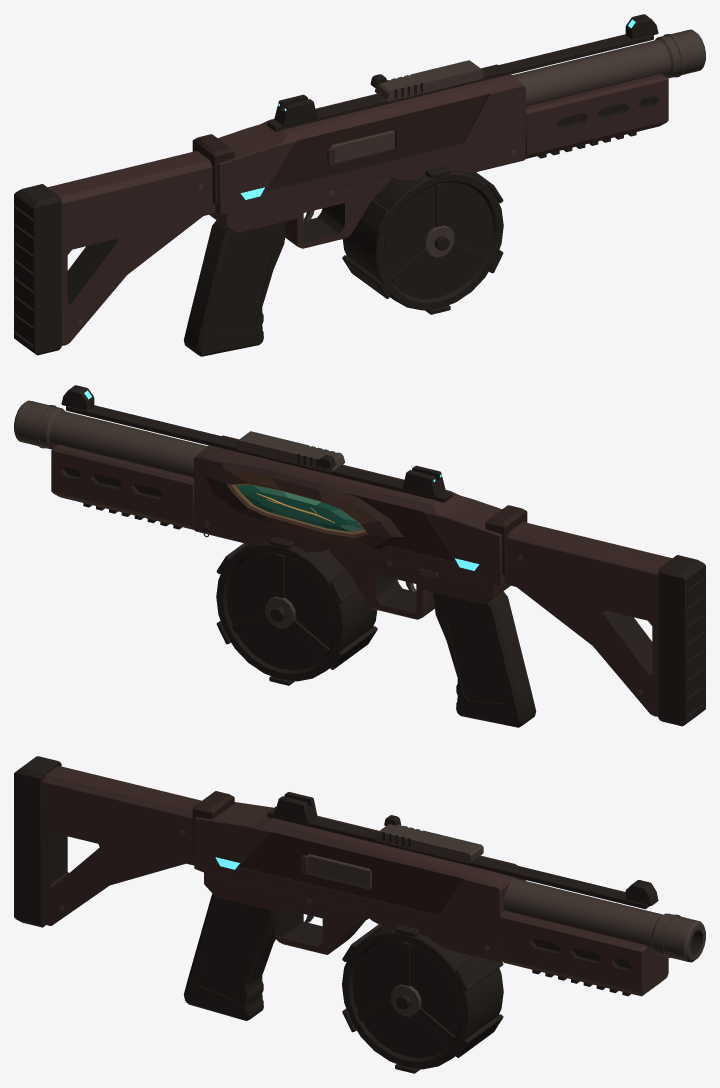
The model's file is Judge_Rootglass_v01.fbx.
3 renders of one model, top to bottom at view 1: azimuth 30°, elevation 25°; view 2: azimuth 150°, elevation 25°; view 3: azimuth 330°, elevation 25°, orthographic.
Parts seen in each view (by area): view 1: Judge_Receiver, Judge_Stock, Judge_Mag, Judge_Grip, Judge_Handguard, Judge_Barrel, Judge_ChargingHandle, Judge_Sights, Judge_Bolt; view 2: Judge_Receiver, Judge_Stock, Judge_Mag, Judge_Grip, Judge_Handguard, Judge_Barrel, Rootglass_Left_CarvedShell, Rootglass_Left_FacetedMineral, Judge_ChargingHandle, Judge_Sights, Rootglass_Left_BronzeSeat; view 3: Judge_Receiver, Judge_Stock, Judge_Mag, Judge_Handguard, Judge_Grip, Judge_Barrel, Judge_ChargingHandle, Judge_Sights, Judge_Bolt.
Boxes of the visible parts, bbox=[...] form: Judge_Receiver: bbox=[192, 34, 653, 248]; Judge_Stock: bbox=[14, 151, 215, 355]; Judge_Mag: bbox=[342, 166, 503, 314]; Judge_Grip: bbox=[183, 220, 287, 356]; Judge_Handguard: bbox=[525, 73, 668, 158]; Judge_Barrel: bbox=[512, 29, 705, 106]; Judge_ChargingHandle: bbox=[370, 60, 483, 101]; Judge_Sights: bbox=[274, 14, 658, 126]; Judge_Bolt: bbox=[330, 130, 394, 163]; Judge_Receiver: bbox=[66, 405, 527, 619]; Judge_Stock: bbox=[504, 522, 705, 726]; Judge_Mag: bbox=[216, 537, 377, 685]; Judge_Grip: bbox=[432, 591, 536, 727]; Judge_Handguard: bbox=[51, 444, 194, 529]; Judge_Barrel: bbox=[14, 400, 207, 477]; Rootglass_Left_CarvedShell: bbox=[201, 461, 403, 548]; Rootglass_Left_FacetedMineral: bbox=[236, 485, 362, 531]; Judge_ChargingHandle: bbox=[236, 431, 345, 472]; Judge_Sights: bbox=[61, 385, 445, 497]; Rootglass_Left_BronzeSeat: bbox=[231, 483, 365, 534]; Judge_Receiver: bbox=[192, 791, 649, 962]; Judge_Stock: bbox=[14, 756, 201, 927]; Judge_Mag: bbox=[342, 924, 503, 1073]; Judge_Handguard: bbox=[499, 911, 668, 996]; Judge_Grip: bbox=[183, 894, 275, 1020]; Judge_Barrel: bbox=[504, 879, 705, 962]; Judge_ChargingHandle: bbox=[374, 815, 483, 863]; Judge_Sights: bbox=[274, 792, 658, 905]; Judge_Bolt: bbox=[307, 854, 371, 887].
Size of the model in its own units: 314 by 102 by 33.6.
